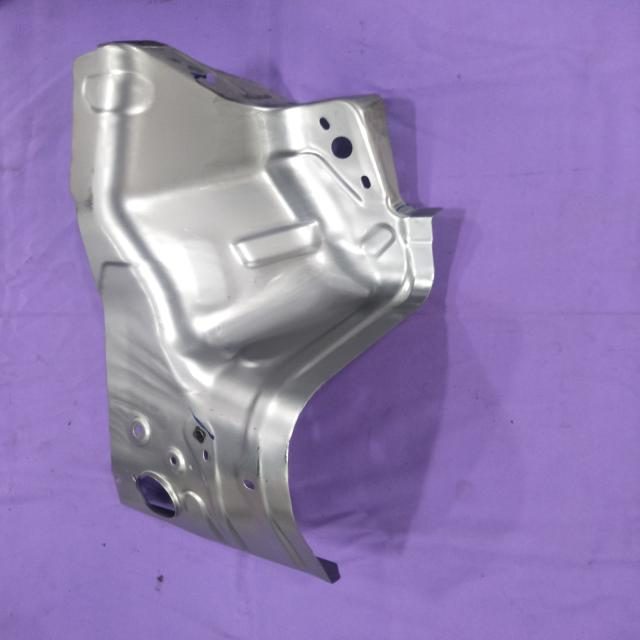Healthy: (66, 38, 444, 585)
